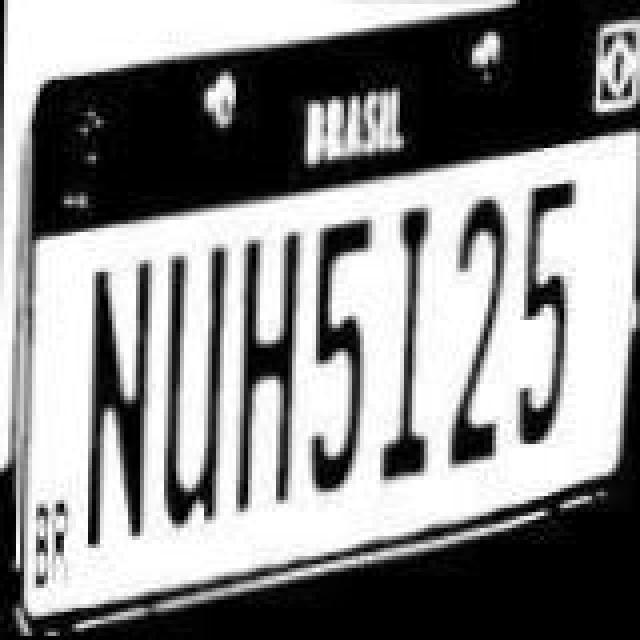2: (440, 174, 516, 458)
5: (306, 196, 378, 480), (516, 162, 584, 430)
H: (232, 214, 308, 502)
I: (376, 184, 444, 472)
N: (82, 246, 158, 554)
U: (154, 226, 230, 526)
